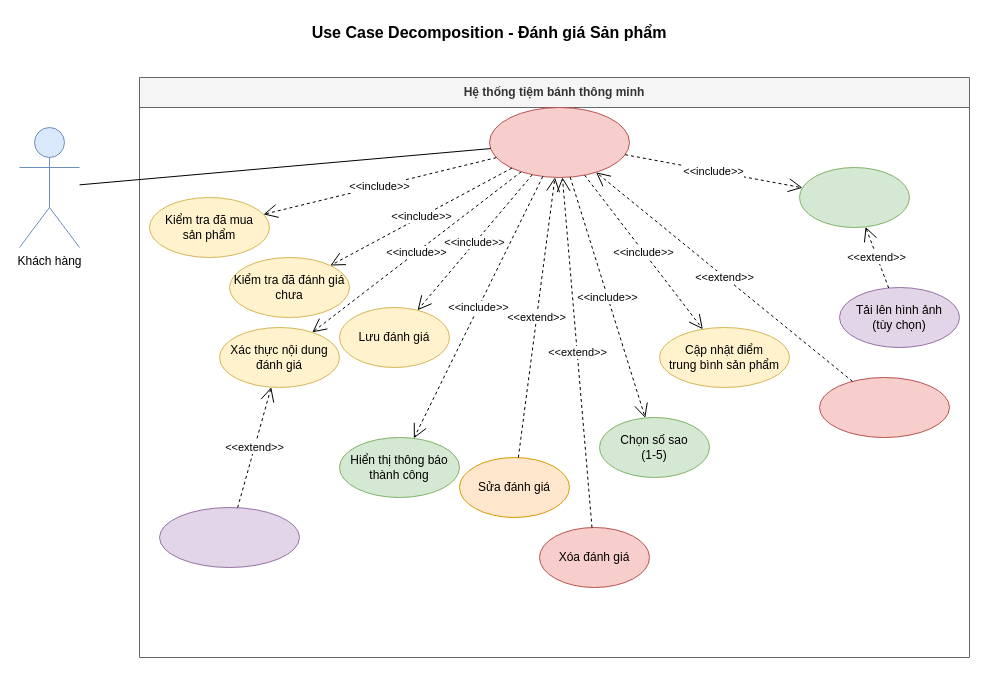
The diagram is 987 pixels wide and 675 high, and some of its shapes have lost their labels. The box of each missing label's shape, as (x1, y1, x2, y2) in pixels:
Báo cáo đánh giá không phù hợp: (818, 376, 950, 438)
Thông báo Admin (nếu có từ nhạy cảm): (158, 506, 300, 568)
Viết nhận xét: (798, 166, 910, 228)
Đánh giá sản phẩm: (488, 106, 630, 178)
